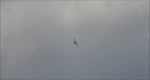maybay_muctieu: (72, 38, 78, 46)
